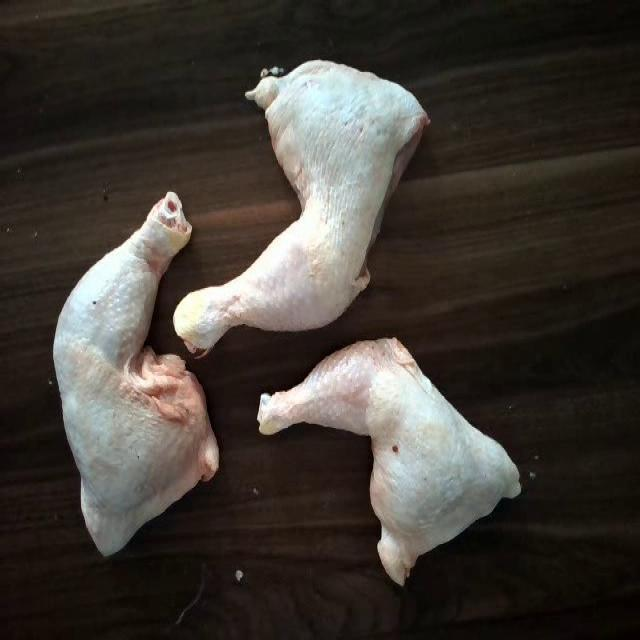quater: (175, 56, 422, 361), (254, 334, 518, 590), (47, 189, 225, 555)
